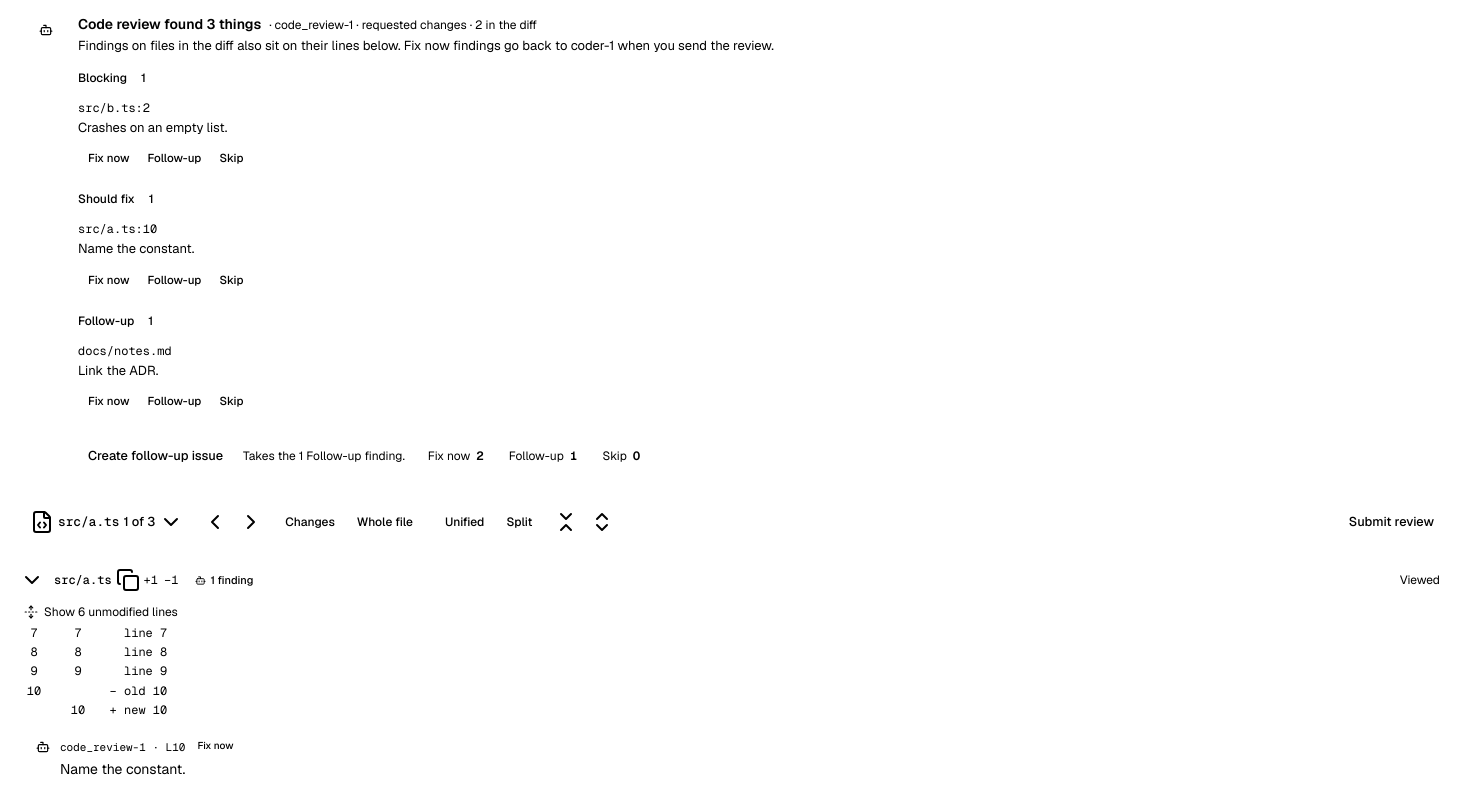
Test: Create follow-up issue takes the Follow-up findings, and they then say which issue holds them
The width and height of the screenshot is (1464, 799).
Click the radio button labelled "Follow-up" below "Should fix" at (174, 280), box [139,268,209,290]
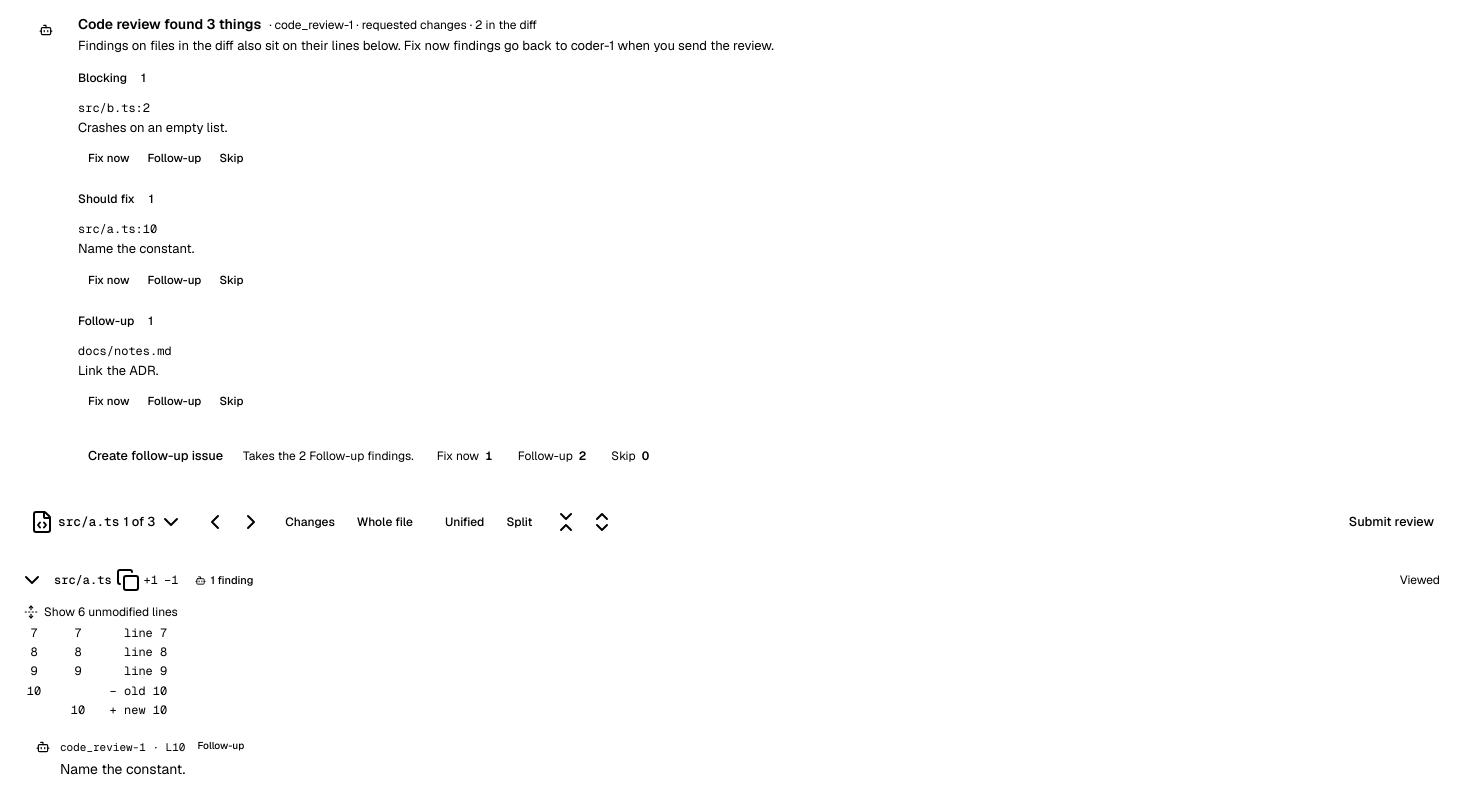
Click the button "Create follow-up issue" at (156, 456), box [78,442,233,470]
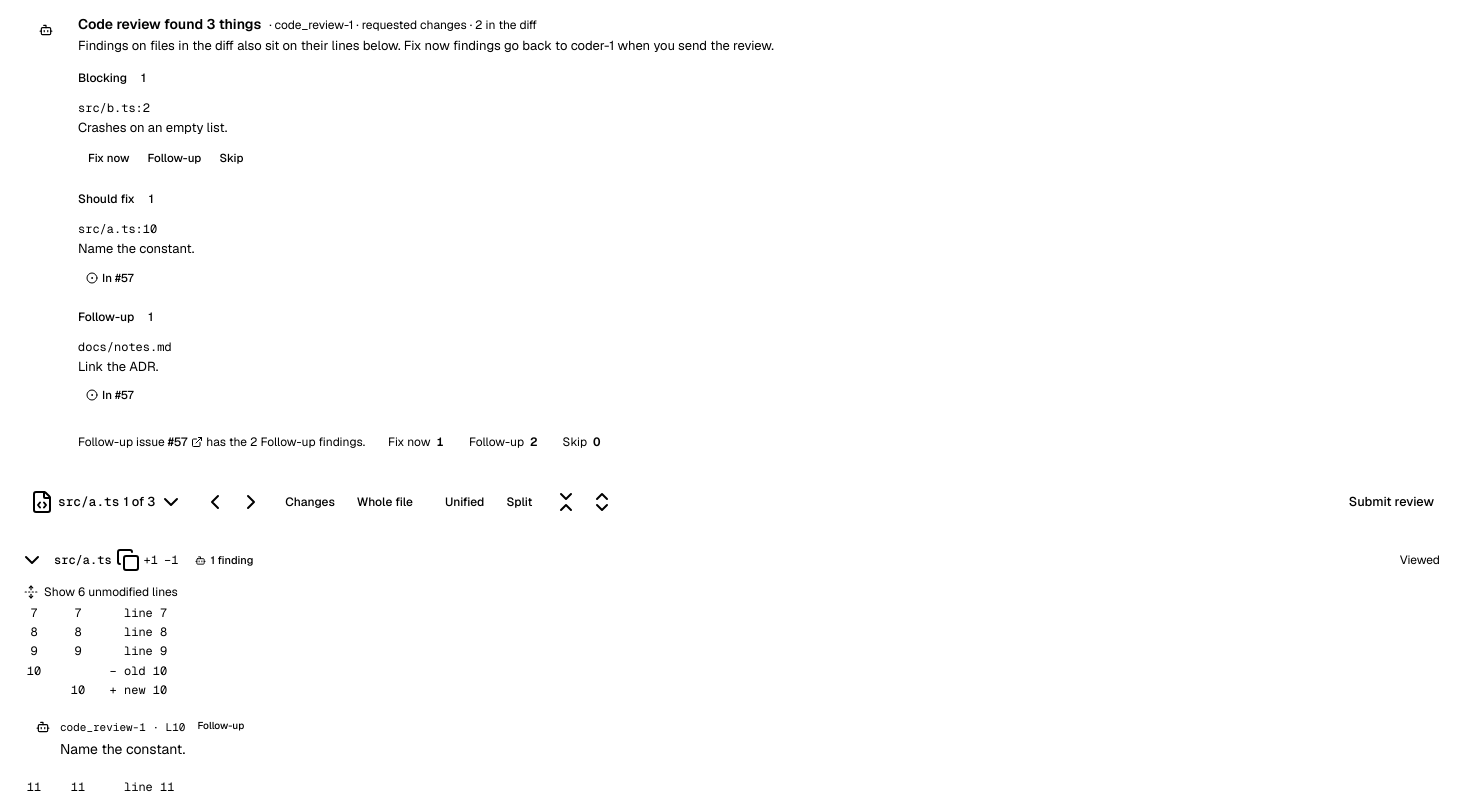
Check: the text "Follow-up issue #57 has the 2 Follow-up findings." is shown, box [78,434,365,450]
Check: the button "Create follow-up issue" is gone
Check: the text "In #57" is shown 2 times, box [86,270,134,285]; [86,387,134,402]
